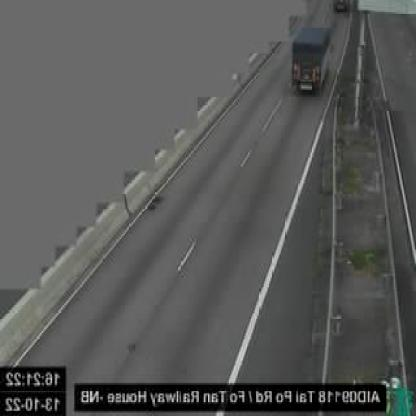Truck: (290, 22, 332, 96)
